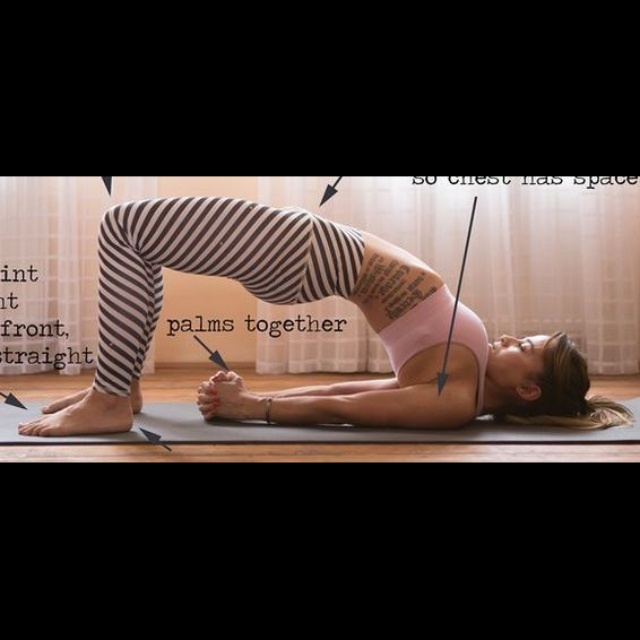Bridge_Pose: (16, 197, 610, 451)
